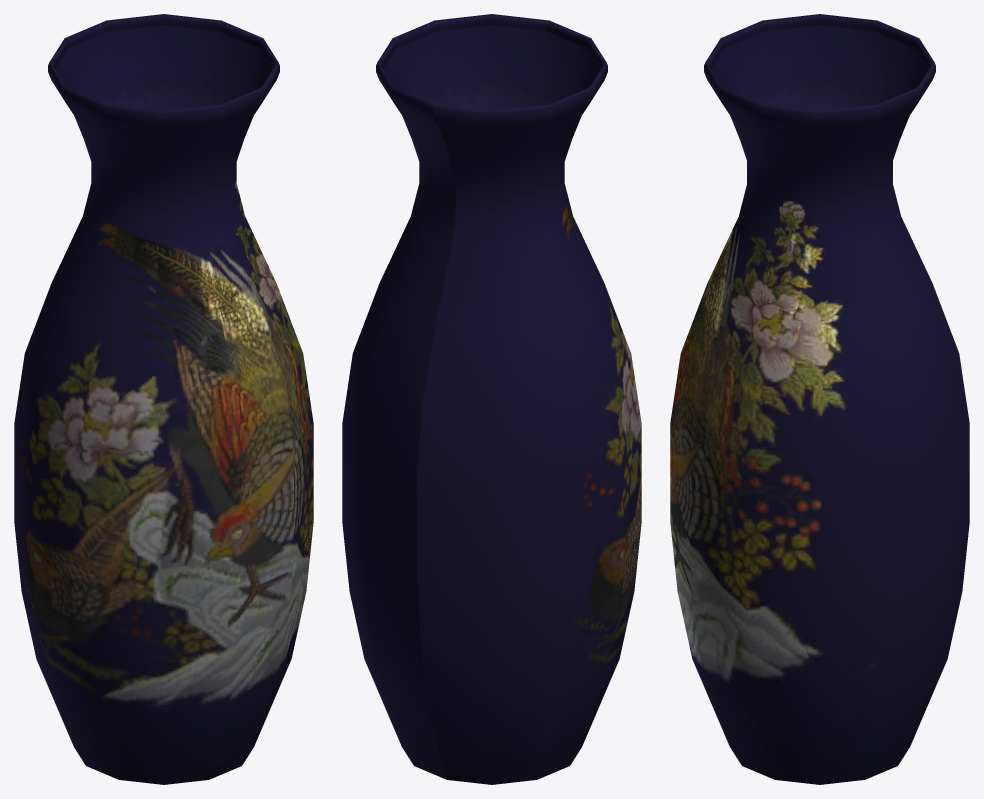
File: Vase1.a.fbx
3 renders of one model, left to right at view 1: azimuth 30°, elevation 25°; view 2: azimuth 150°, elevation 25°; view 3: azimuth 270°, elevation 25°, orthographic.
Parts seen in each view (by area): view 1: Group 0; view 2: Group 0; view 3: Group 0.
Part boxes in pixels (<box>): Group 0: <box>14,14,313,784</box>; Group 0: <box>342,14,641,784</box>; Group 0: <box>670,14,969,784</box>.
Size of the model in its own units: 11.77 by 29.7 by 11.77.
Materials: 1 (1 with a texture image).
